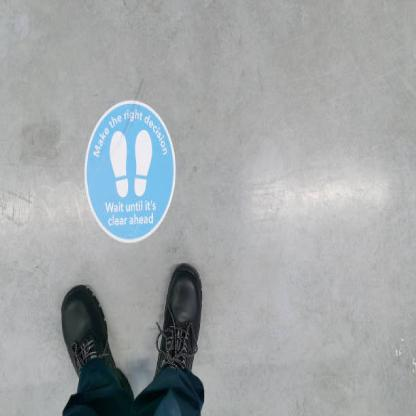bota: (150, 259, 205, 380), (59, 281, 117, 381)
